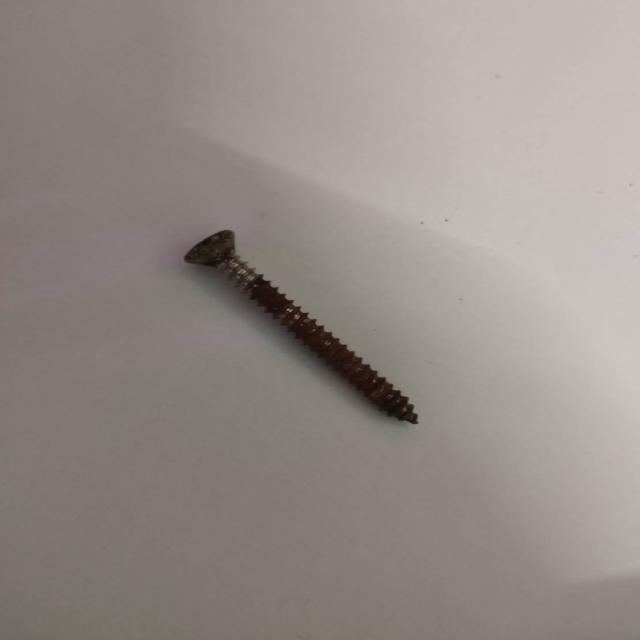corrosion: (245, 275, 421, 426)
